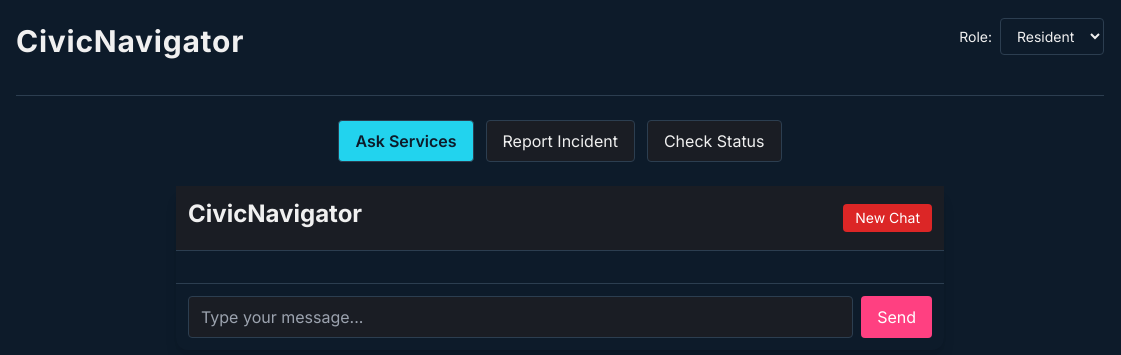
Scenario: CivicLayout › shows logout button when logged in as staff
The width and height of the screenshot is (1121, 355).
Select "Staff" in the dropdown labelled "Role:" at point(1052, 36), box [1000,18,1104,55]
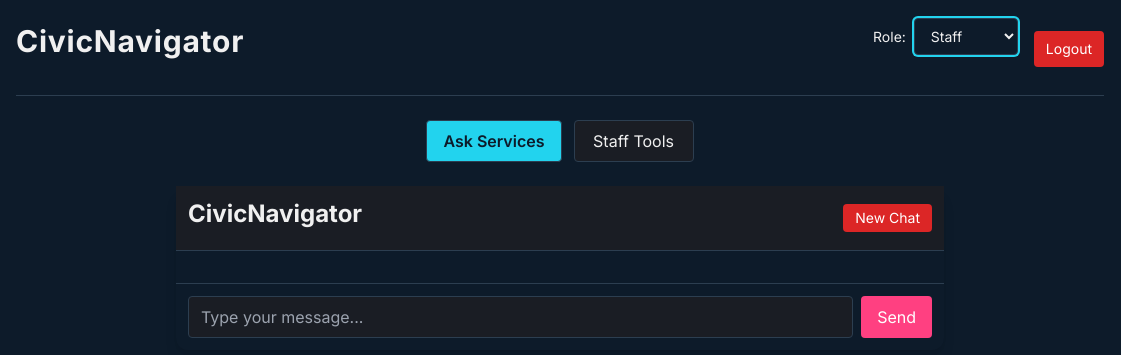
Expected: the button "Logout" is shown, [1034,30,1104,66]
